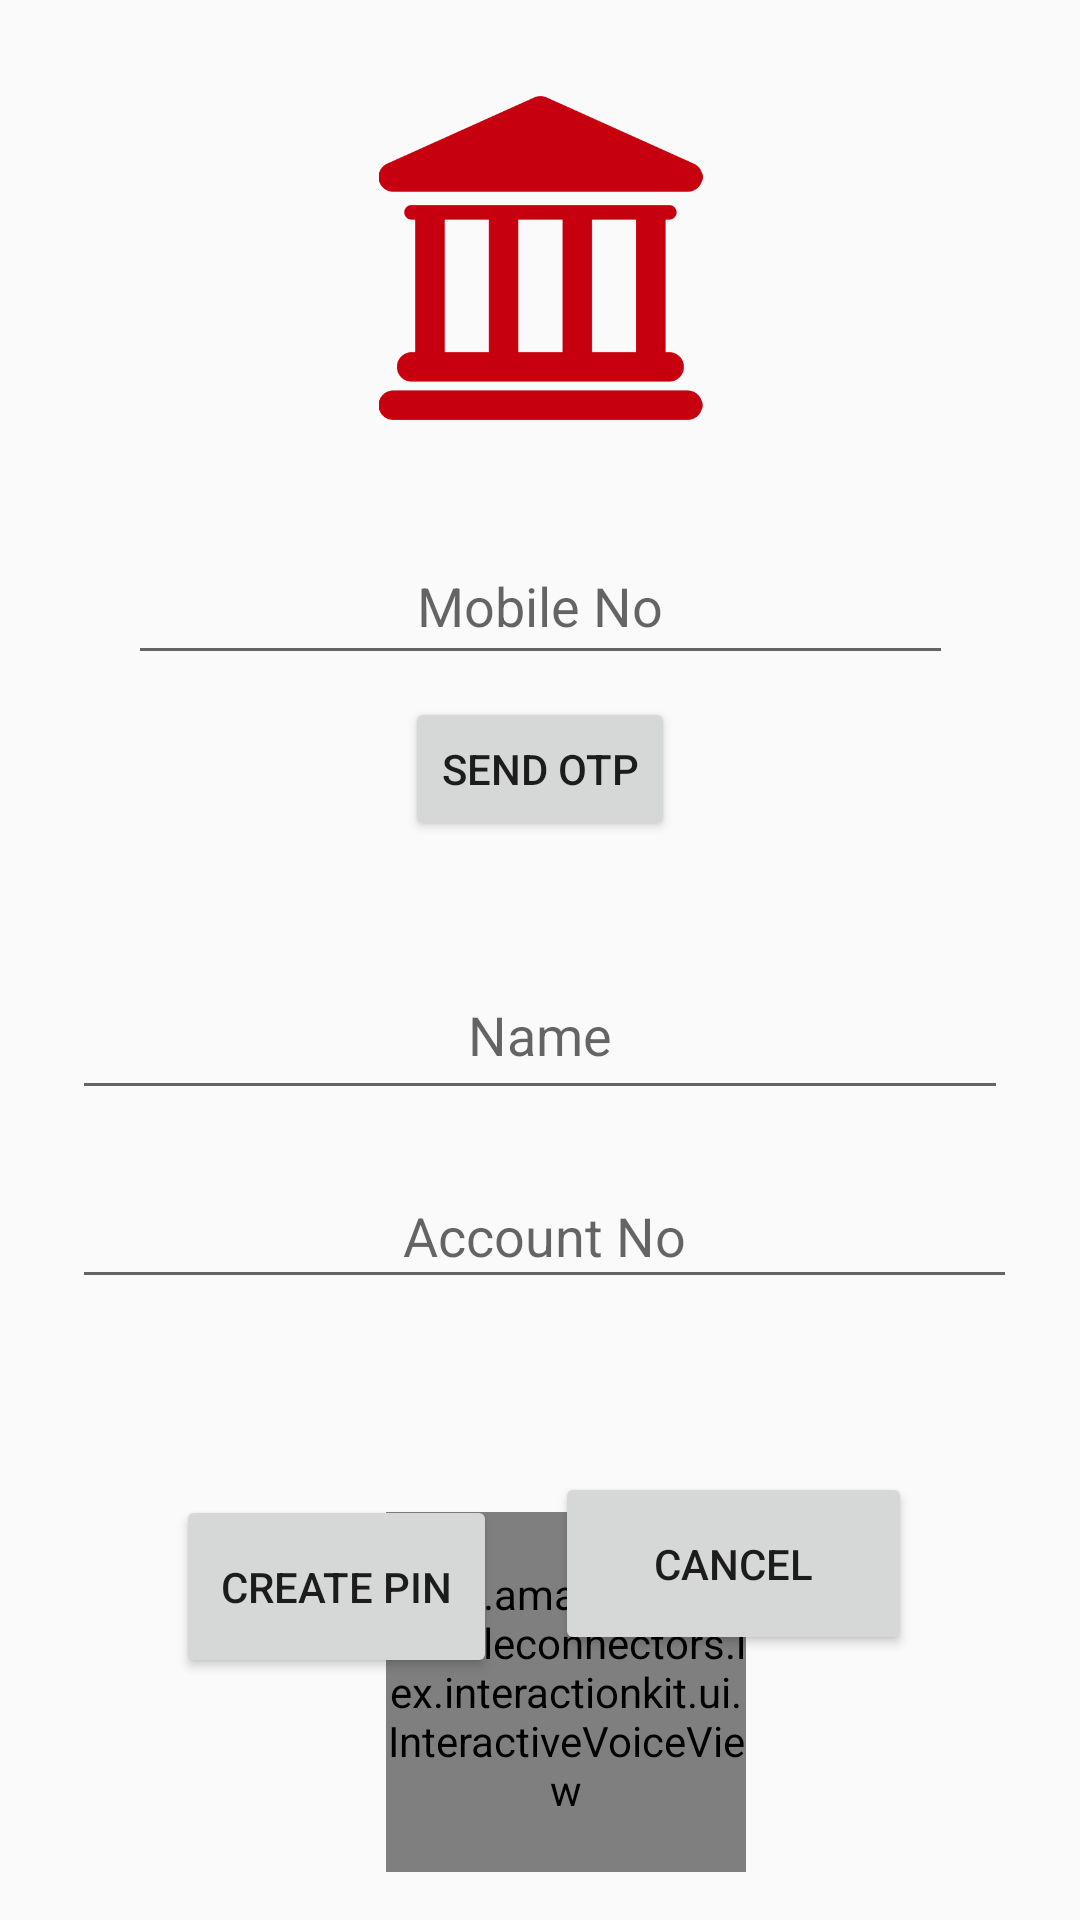

Where icons sit on this 1080 × 1920 app screen, as (x1, y1, x2, y2):
bank: (379, 96, 703, 420)
